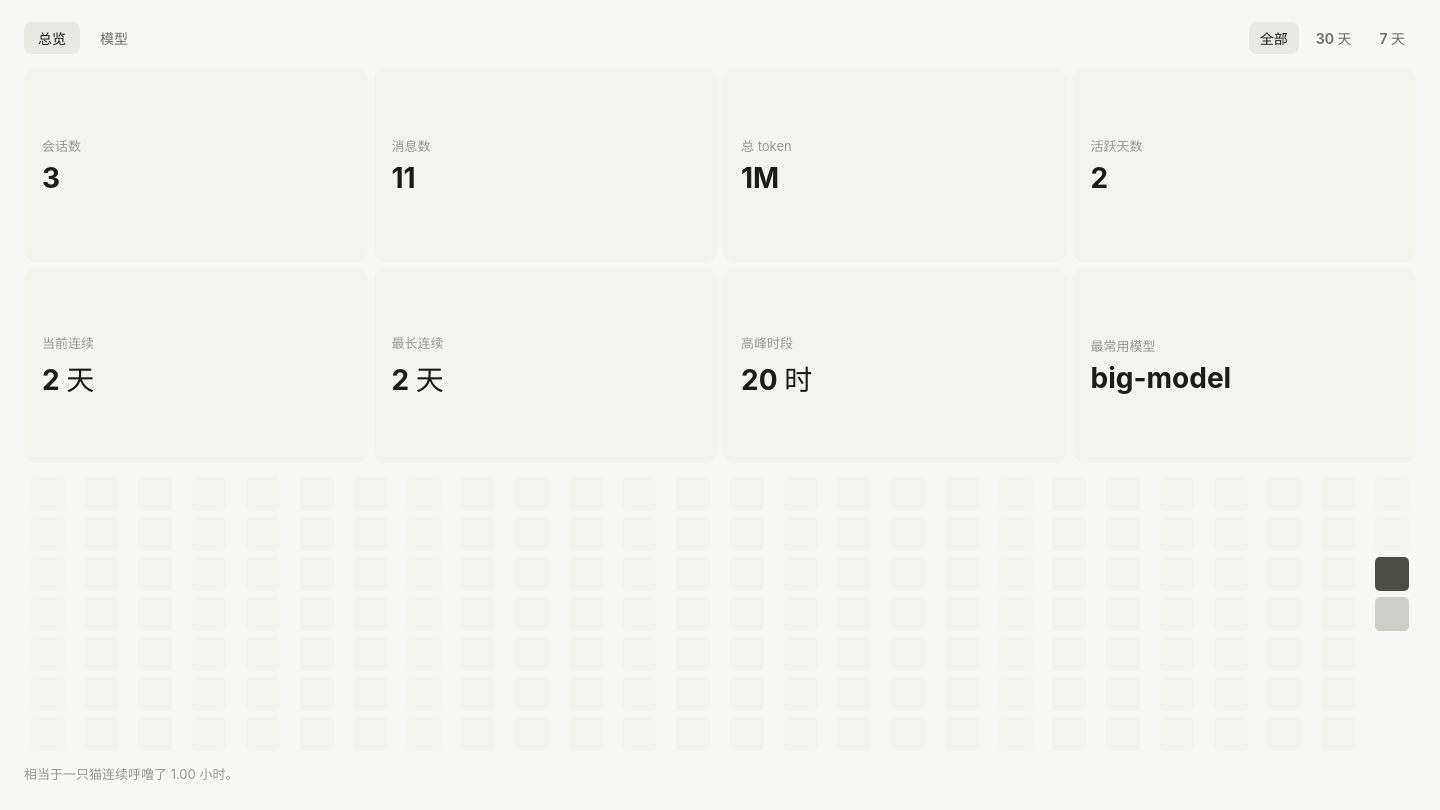
Test: UsageStatsCard › names the day and its models only while a bar is hovered
Click the tab "模型". click: click(114, 38)
box: [86, 22, 142, 54]
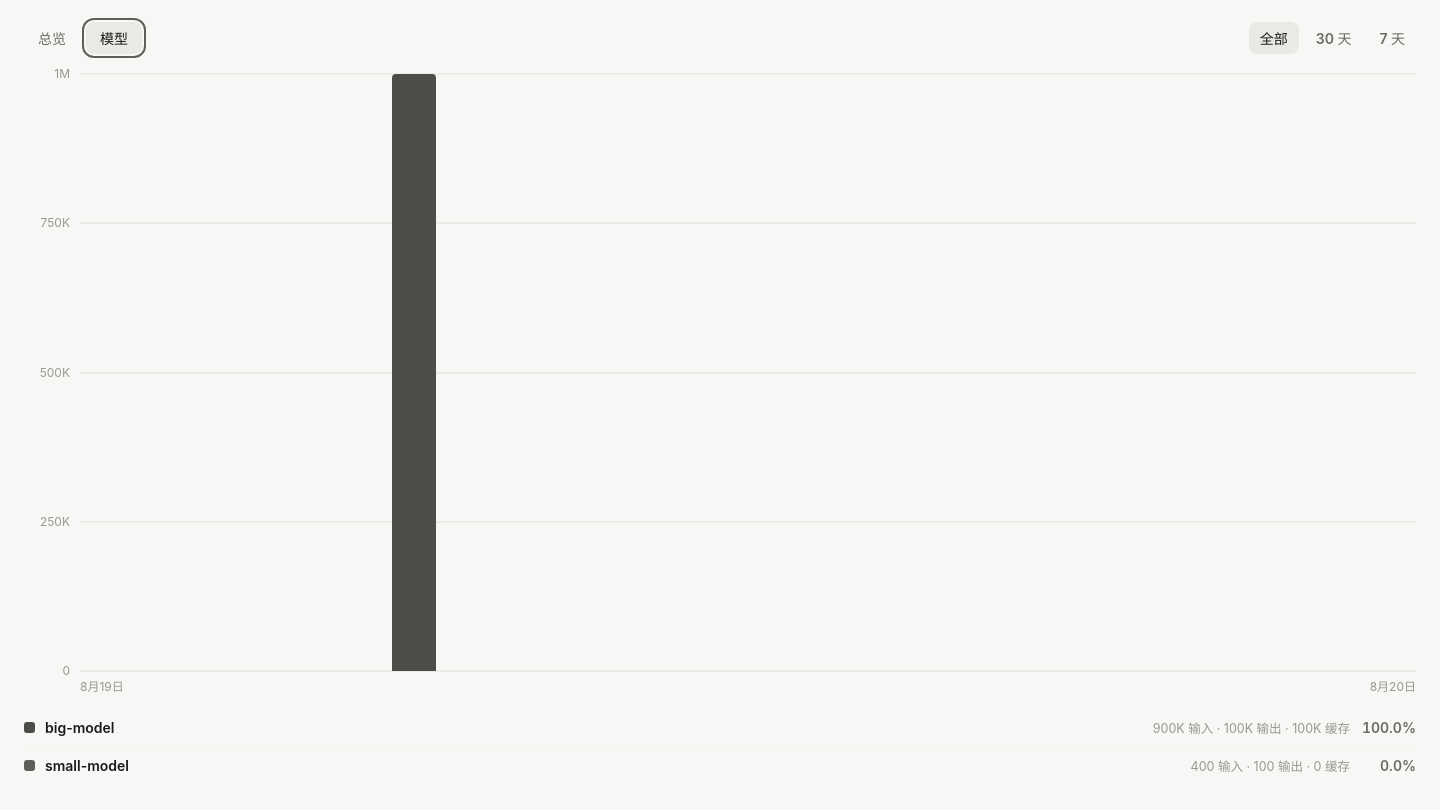
Hover over the 1st element with class "usage-stats__chart-column" at (414, 372), box [392, 74, 436, 671]
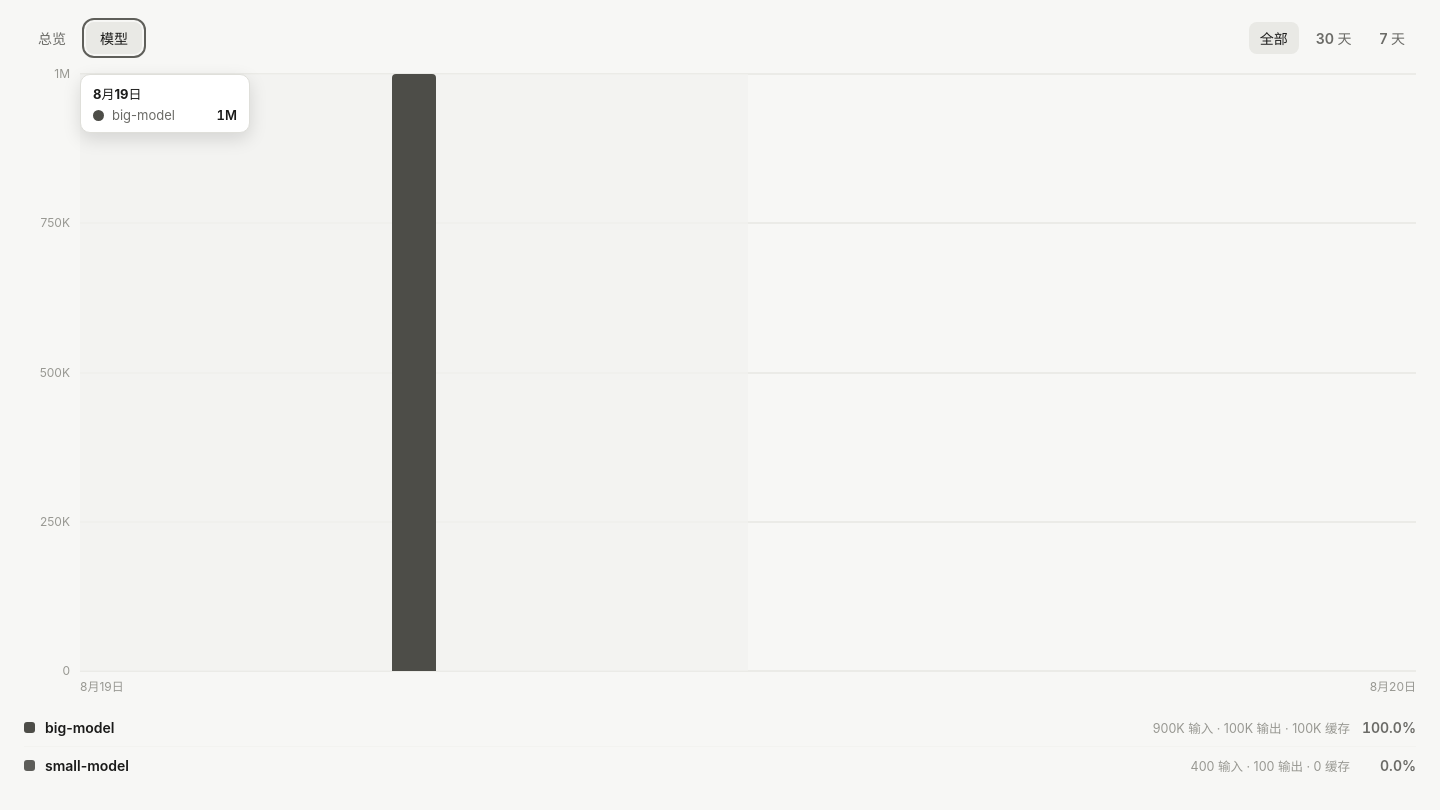
Expected: the element with class "usage-stats__chart-tip" is shown, [80, 74, 250, 133]
Expected: the 1st text "8月19日" is shown, [93, 86, 142, 102]
Expected: the 1st text "big-model" is shown, [112, 107, 175, 123]
Move the pointer off the element with class "usage-stats__chart-columns", box [80, 74, 748, 671]
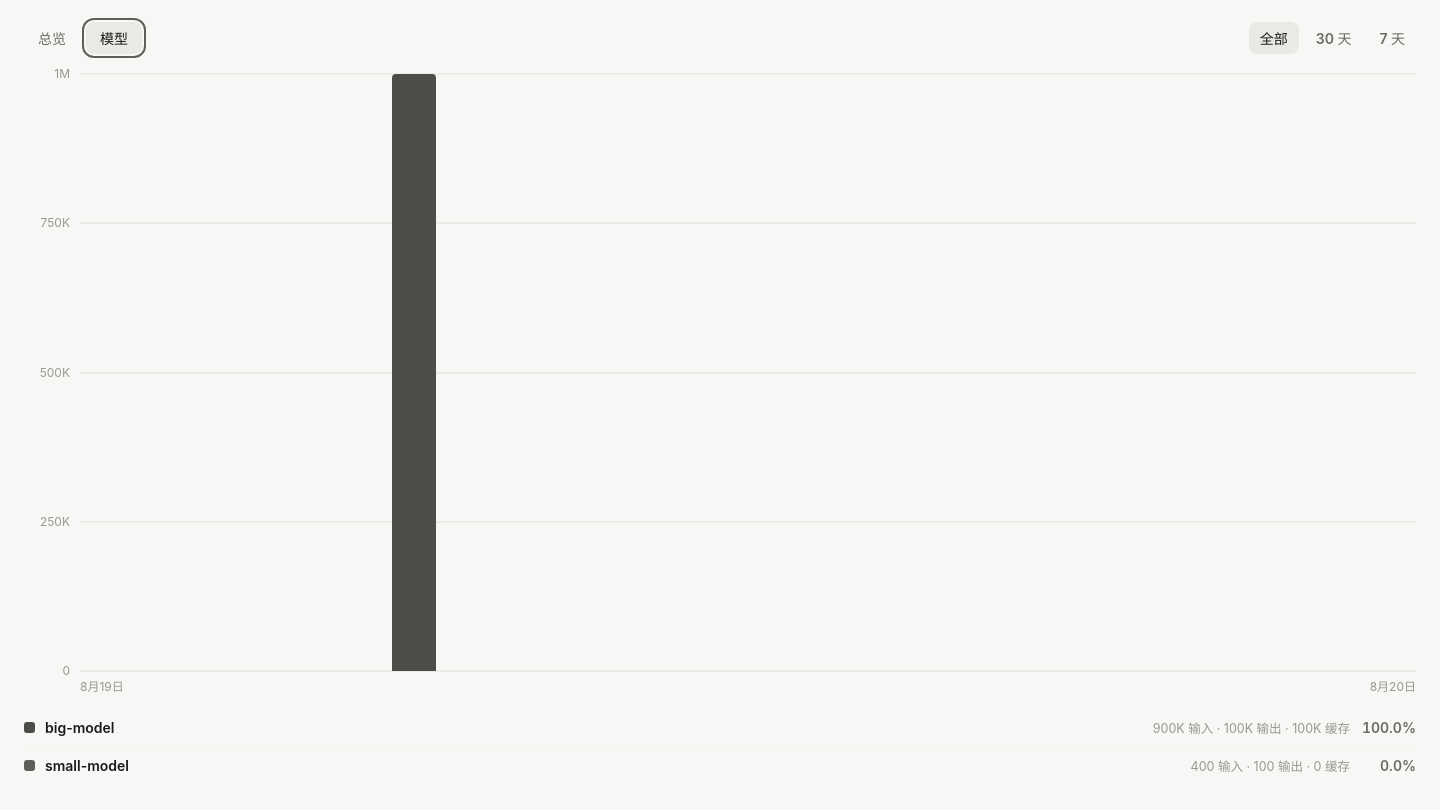
Expected: the element with class "usage-stats__chart-tip" is gone
